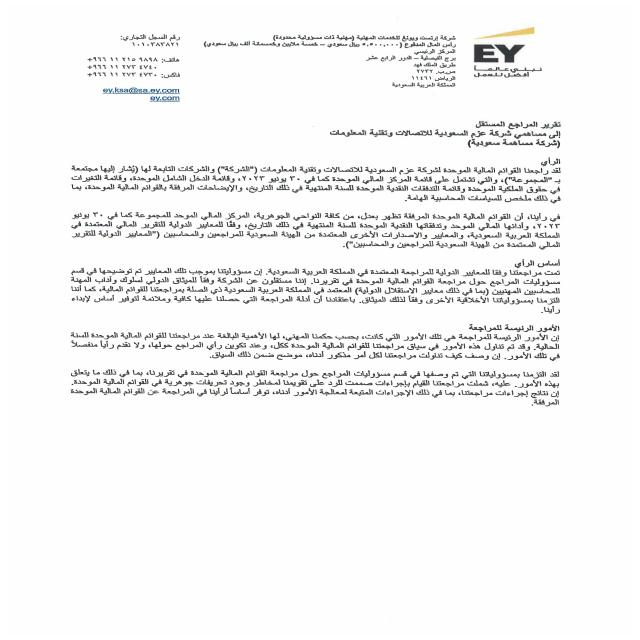auditor_report: (471, 116, 564, 130)
